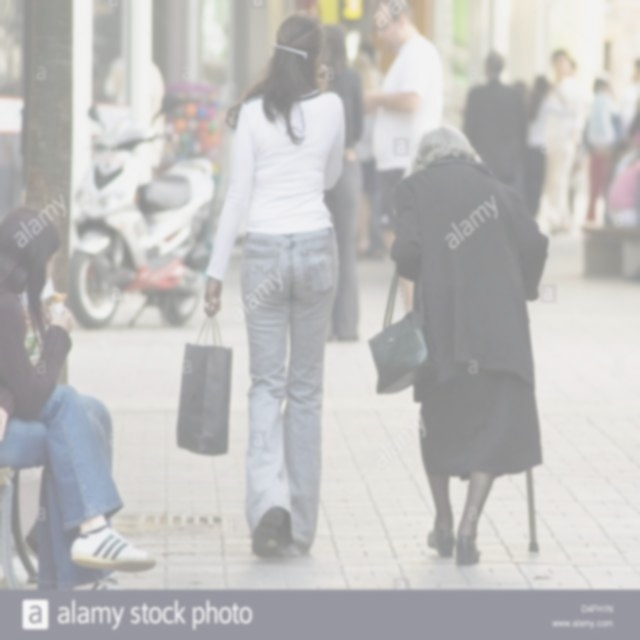pessoa: (165, 5, 374, 567), (388, 124, 550, 568), (0, 203, 161, 590), (7, 266, 128, 594), (492, 41, 640, 287), (359, 0, 446, 252), (316, 22, 368, 346), (462, 48, 530, 206), (96, 42, 180, 139)
